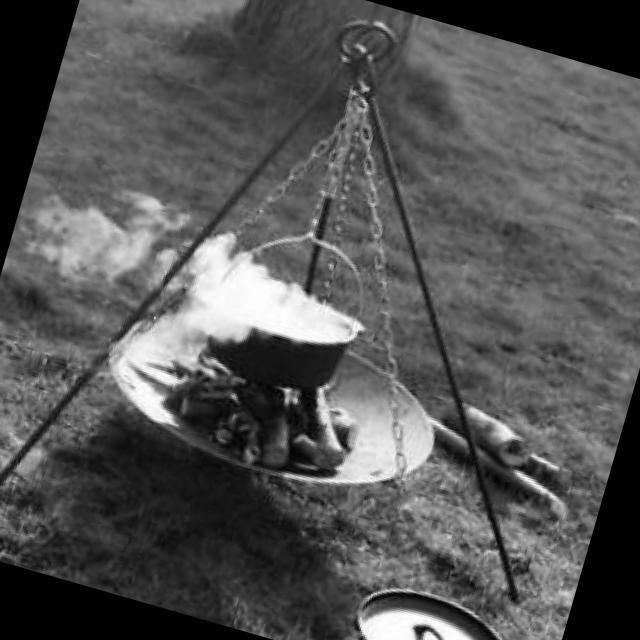smoke: (0, 149, 361, 381)
